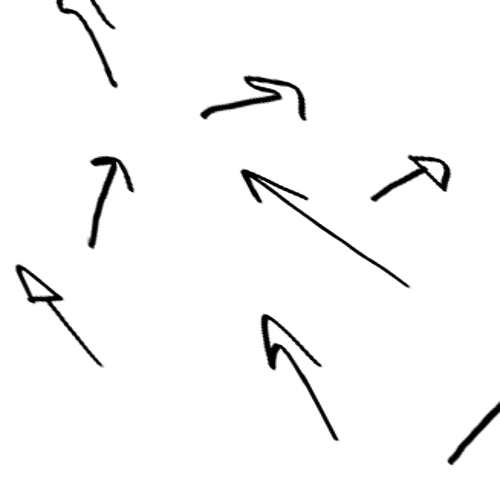arrow: (235, 167, 413, 287), (259, 314, 342, 442), (13, 265, 103, 364), (56, 1, 128, 88), (197, 71, 305, 118), (86, 155, 136, 248), (446, 401, 500, 463), (375, 156, 449, 200)
